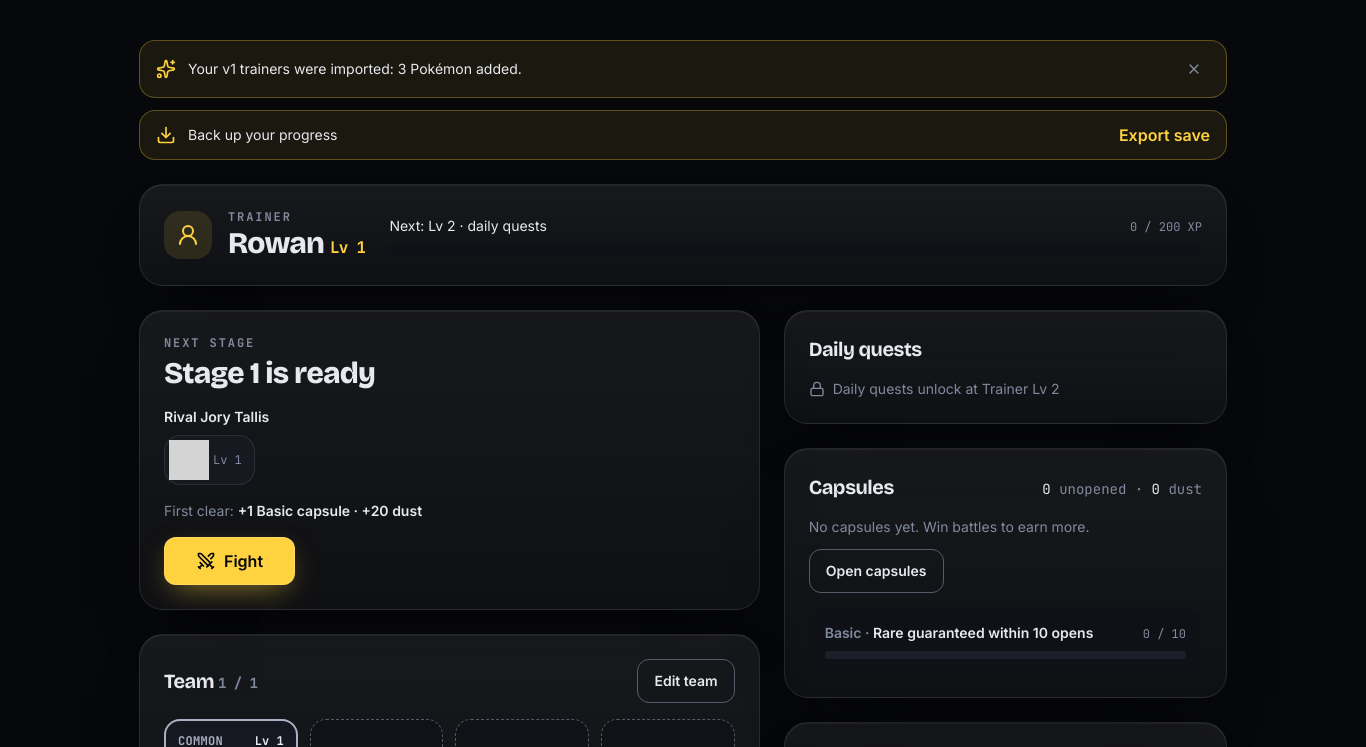
Scenario: HomePage › v1 players › welcomes a fresh v1 import once per page load until dismissed, without a capsule
Expected: the text "Your v1 trainers were imported: 3 Pokémon added." is shown, [188,60,522,77]
Click the button named "Dismiss welcome message" at x=1194, y=69, box [1178,53,1210,85]
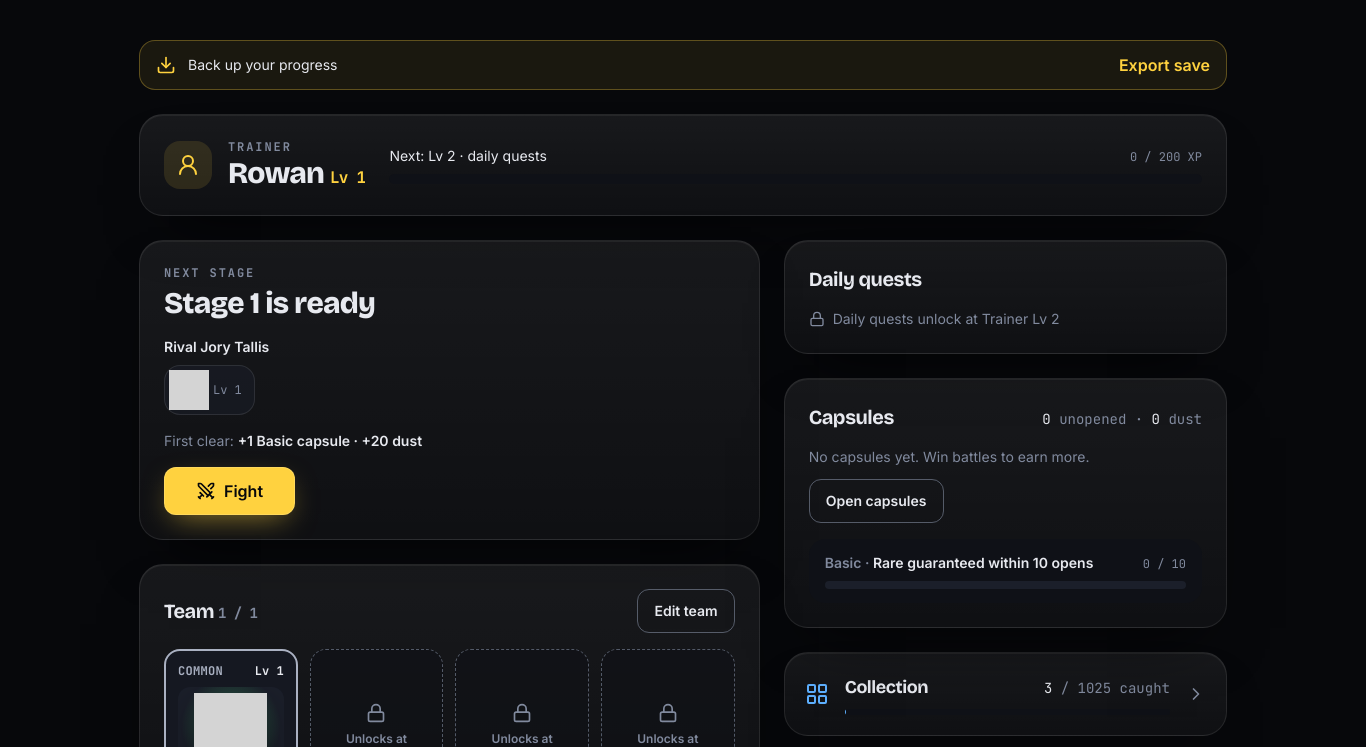
Now the text "v1 trainers were imported" is gone
